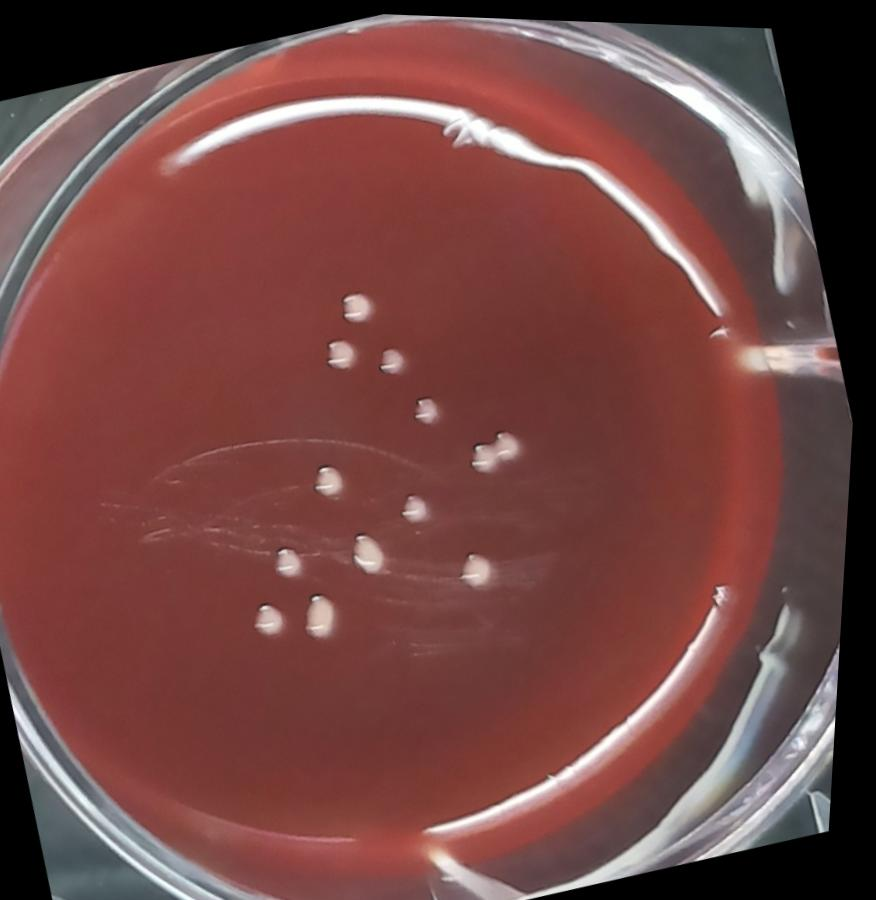krosea: (465, 418, 536, 480), (296, 578, 356, 649), (341, 516, 404, 583), (334, 275, 391, 334), (456, 536, 510, 594), (267, 530, 321, 586), (317, 326, 371, 379), (247, 589, 300, 643), (393, 480, 445, 533), (308, 453, 359, 506), (407, 383, 454, 431), (372, 334, 416, 381)
